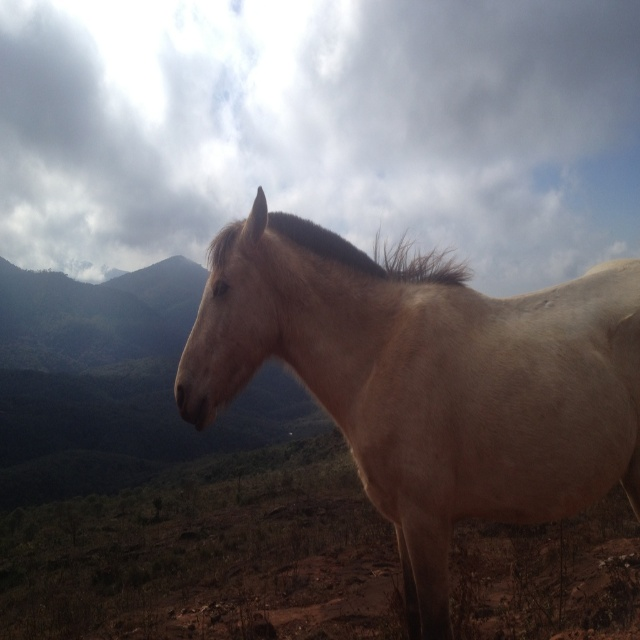Horse: (177, 187, 640, 638)
